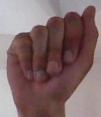A: (1, 1, 101, 114)
